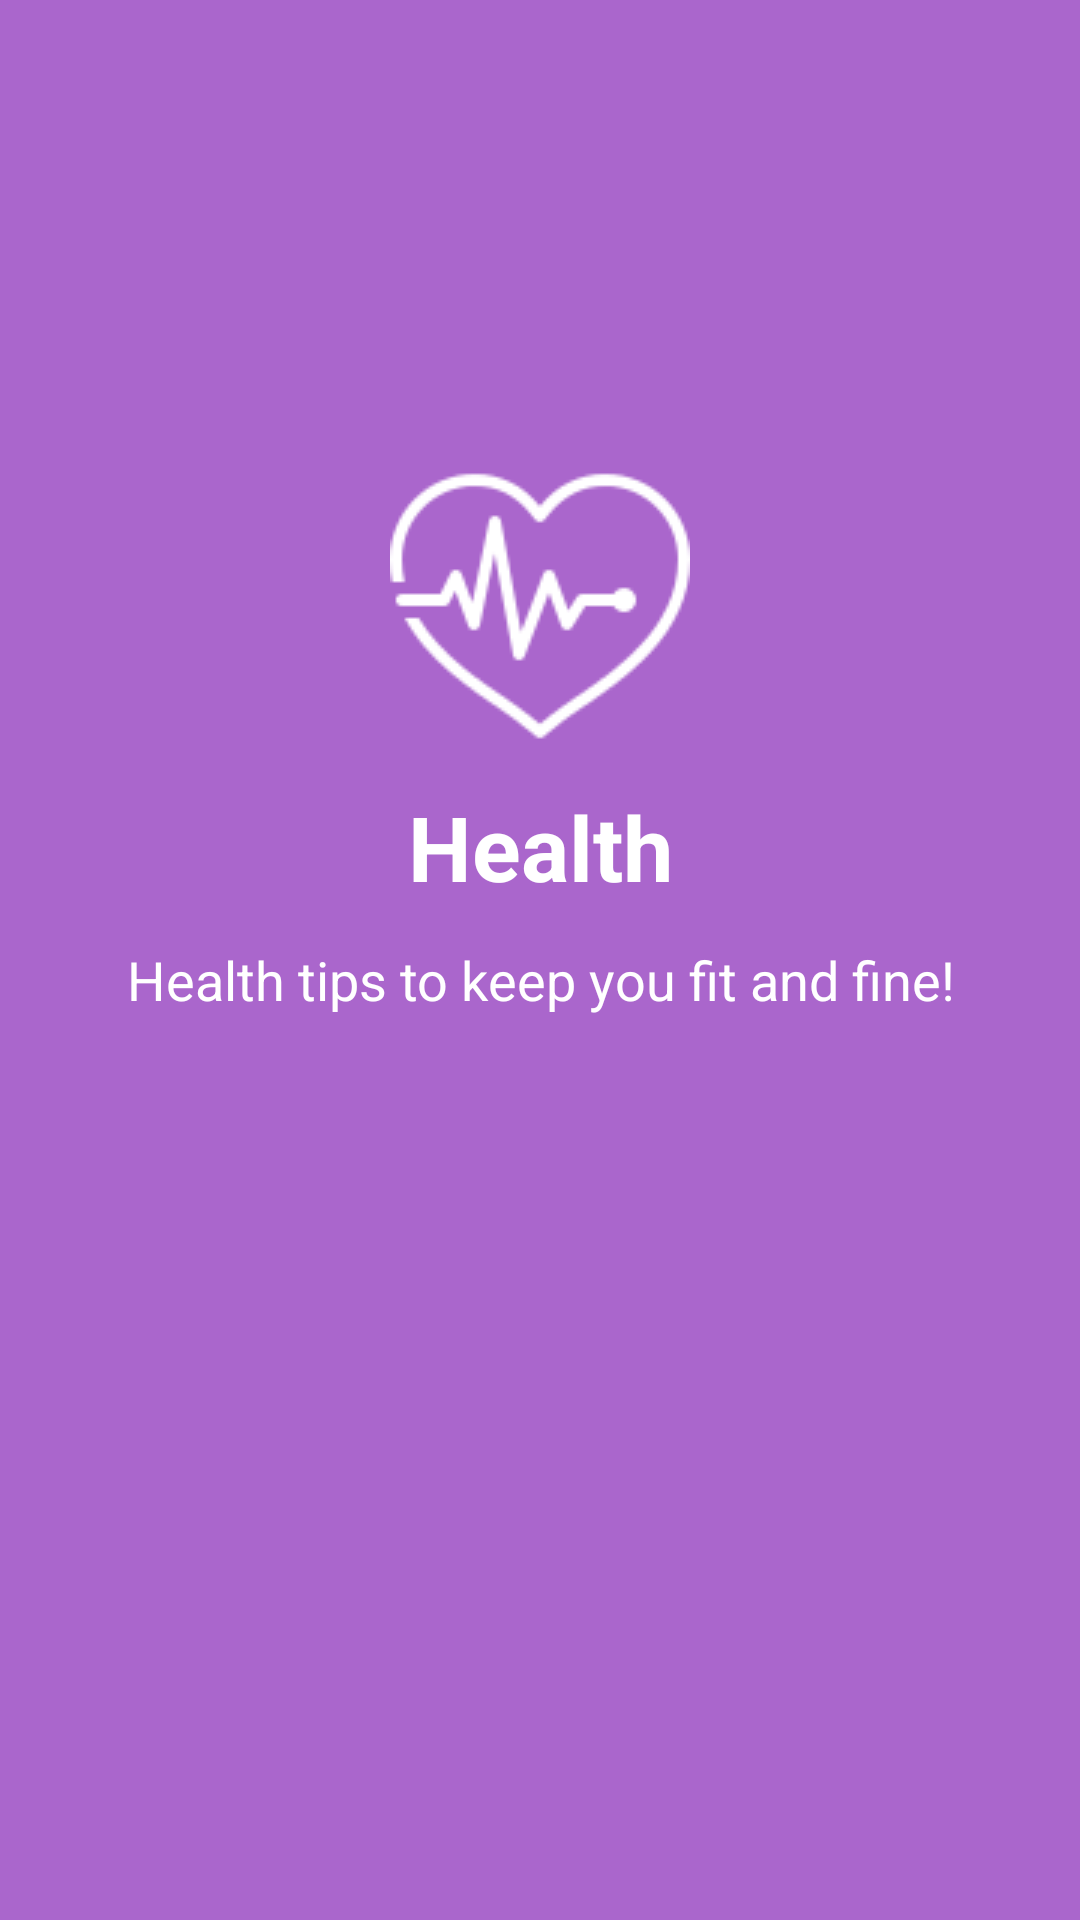

Named icons in this screenshot (1080 × 1920) and their bounding boxes, [x1=x1, y1=y1, x2=x2, y2=y2]:
heart: [x1=390, y1=473, x2=690, y2=739]
